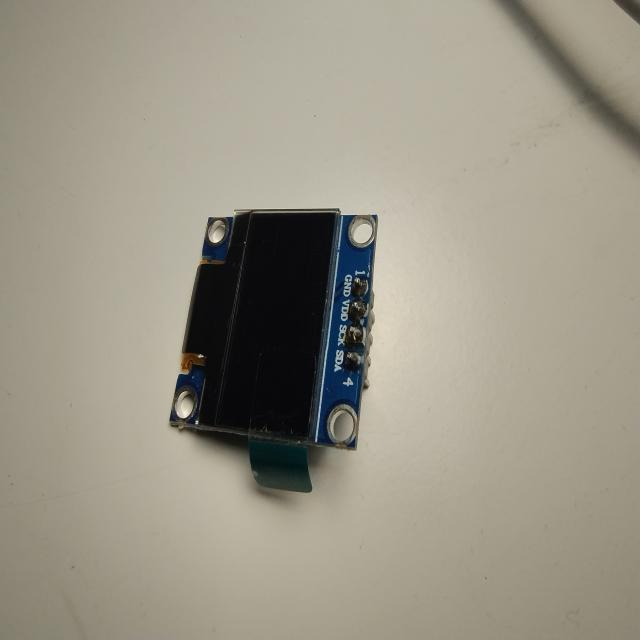oled: (166, 204, 380, 509)
